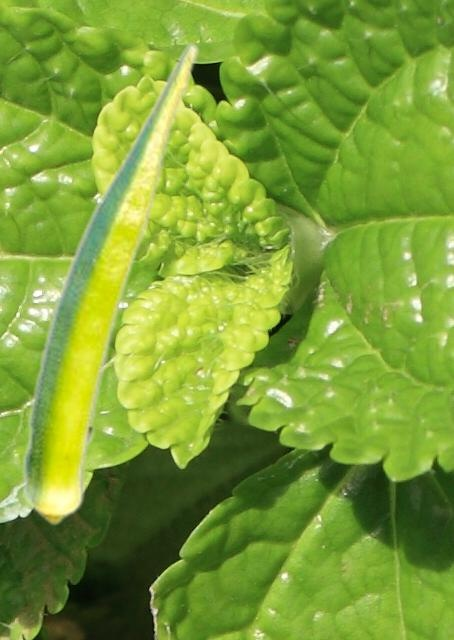okra: (22, 41, 199, 525)
